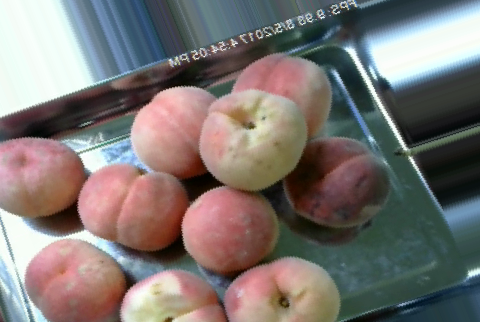Peach: (203, 88, 304, 191), (286, 136, 389, 229), (77, 165, 187, 250), (21, 237, 129, 321), (181, 187, 279, 271), (231, 54, 330, 137), (130, 85, 216, 177), (223, 256, 342, 322), (0, 138, 85, 215), (119, 271, 229, 320)
